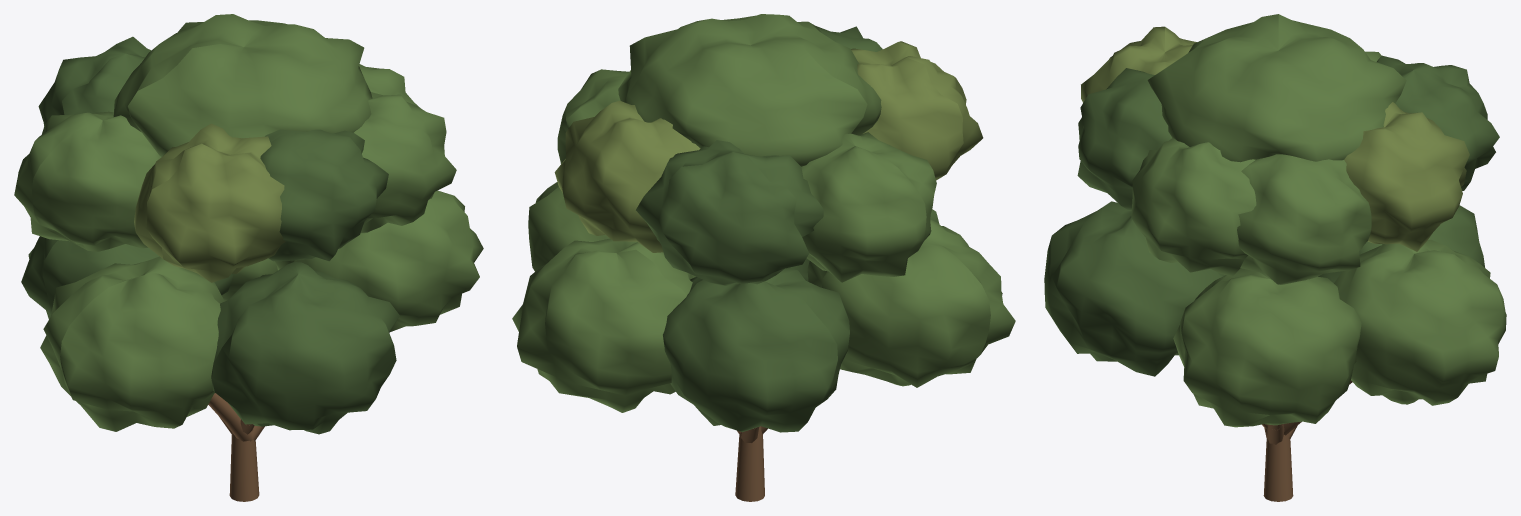
File: kanzan.glb
3 renders of one model, left to right at view 1: azimuth 30°, elevation 25°; view 2: azimuth 150°, elevation 25°; view 3: azimuth 270°, elevation 25°, orthographic.
Parts seen in each view (by area): view 1: korona-teto, korona-3, korona-2, korona-gyuru-3, korona-gyuru-4, korona-1, korona-gyuru-2, korona-gyuru-1, korona-gyuru-5, korona-4, torzs, korona-gyuru-7 (+1 smaller); view 2: korona-teto, korona-4, korona-5, korona-gyuru-5, korona-3, korona-gyuru-4, korona-gyuru-6, korona-gyuru-3, korona-1, korona-gyuru-7, torzs, korona-gyuru-2; view 3: korona-teto, korona-1, korona-5, korona-2, korona-gyuru-7, korona-gyuru-1, korona-gyuru-6, korona-gyuru-2, korona-gyuru-5, korona-gyuru-3, korona-4, torzs.
Boxes of the visible parts, left/top/right/bottom form: korona-teto: left=113, top=14, right=372, bottom=156; korona-3: left=40, top=256, right=224, bottom=431; korona-2: left=211, top=262, right=399, bottom=434; korona-gyuru-3: left=134, top=123, right=285, bottom=282; korona-gyuru-4: left=14, top=111, right=161, bottom=251; korona-1: left=275, top=190, right=483, bottom=331; korona-gyuru-2: left=260, top=129, right=388, bottom=261; korona-gyuru-1: left=354, top=92, right=456, bottom=233; korona-gyuru-5: left=38, top=36, right=150, bottom=125; korona-4: left=21, top=236, right=233, bottom=319; torzs: left=229, top=429, right=259, bottom=501; korona-gyuru-7: left=359, top=64, right=419, bottom=107; korona-teto: left=618, top=14, right=881, bottom=166; korona-4: left=663, top=268, right=849, bottom=432; korona-5: left=512, top=238, right=693, bottom=412; korona-gyuru-5: left=636, top=140, right=823, bottom=285; korona-3: left=807, top=219, right=1015, bottom=387; korona-gyuru-4: left=801, top=132, right=936, bottom=282; korona-gyuru-6: left=554, top=100, right=700, bottom=252; korona-gyuru-3: left=851, top=41, right=983, bottom=180; korona-1: left=528, top=182, right=695, bottom=277; korona-gyuru-7: left=557, top=69, right=629, bottom=163; torzs: left=735, top=426, right=764, bottom=501; korona-gyuru-2: left=816, top=26, right=882, bottom=51; korona-teto: left=1147, top=14, right=1406, bottom=162; korona-1: left=1173, top=268, right=1361, bottom=427; korona-5: left=1334, top=240, right=1506, bottom=405; korona-2: left=1044, top=201, right=1225, bottom=376; korona-gyuru-7: left=1237, top=154, right=1371, bottom=284; korona-gyuru-1: left=1131, top=138, right=1256, bottom=276; korona-gyuru-6: left=1344, top=102, right=1469, bottom=251; korona-gyuru-2: left=1077, top=68, right=1171, bottom=209; korona-gyuru-5: left=1377, top=55, right=1499, bottom=190; korona-gyuru-3: left=1081, top=26, right=1196, bottom=102; korona-4: left=1318, top=205, right=1484, bottom=283; torzs: left=1263, top=433, right=1293, bottom=501.
Bounding box in the file's own units: 8 × 8.01 × 7.34.
